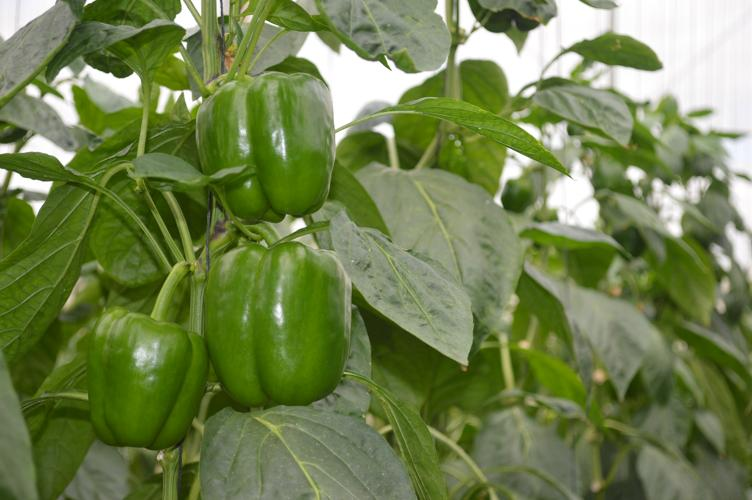BellPepper: (199, 243, 352, 407), (190, 69, 332, 219), (82, 310, 204, 448)
